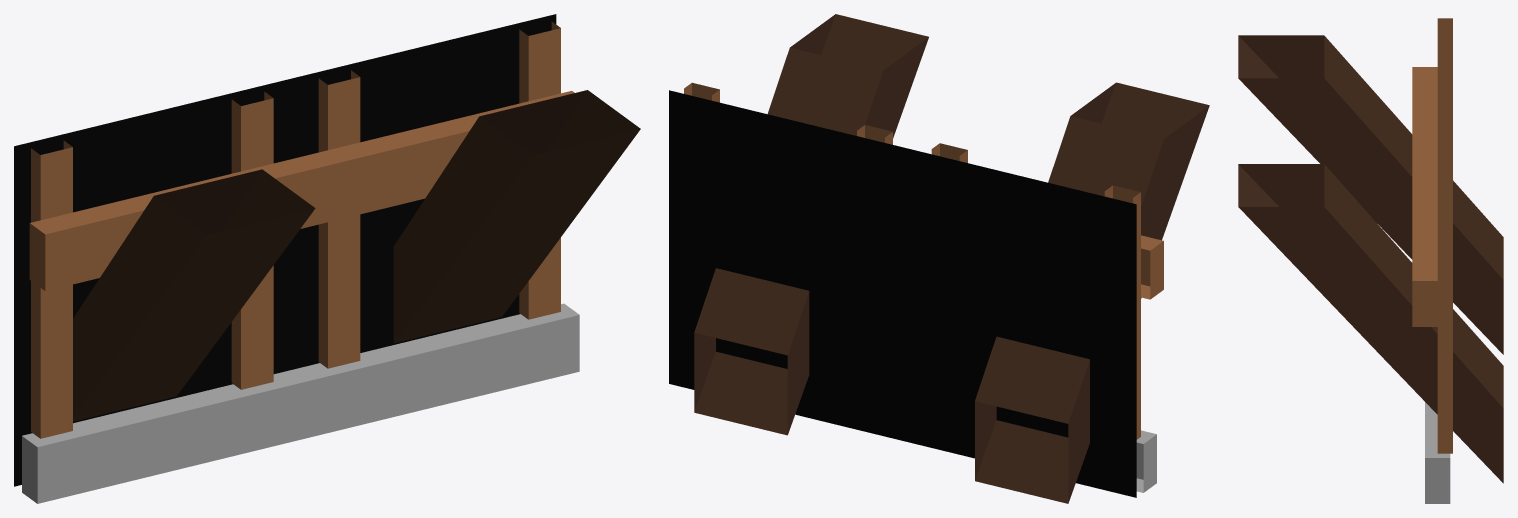
File: Upper Wall Textured.fbx
3 renders of one model, left to right at view 1: azimuth 30°, elevation 25°; view 2: azimuth 150°, elevation 25°; view 3: azimuth 270°, elevation 25°, orthographic. The views are drawn at different scales.
Parts seen in each view (by area): view 1: Upper_Wall; view 2: Upper_Wall; view 3: Upper_Wall.
Boxes of the visible parts, left/top/right/bottom form: Upper_Wall: left=14, top=14, right=640, bottom=503; Upper_Wall: left=669, top=14, right=1209, bottom=503; Upper_Wall: left=1238, top=18, right=1503, bottom=503.
Size of the model in its own units: 10 by 6.03 by 5.24.
